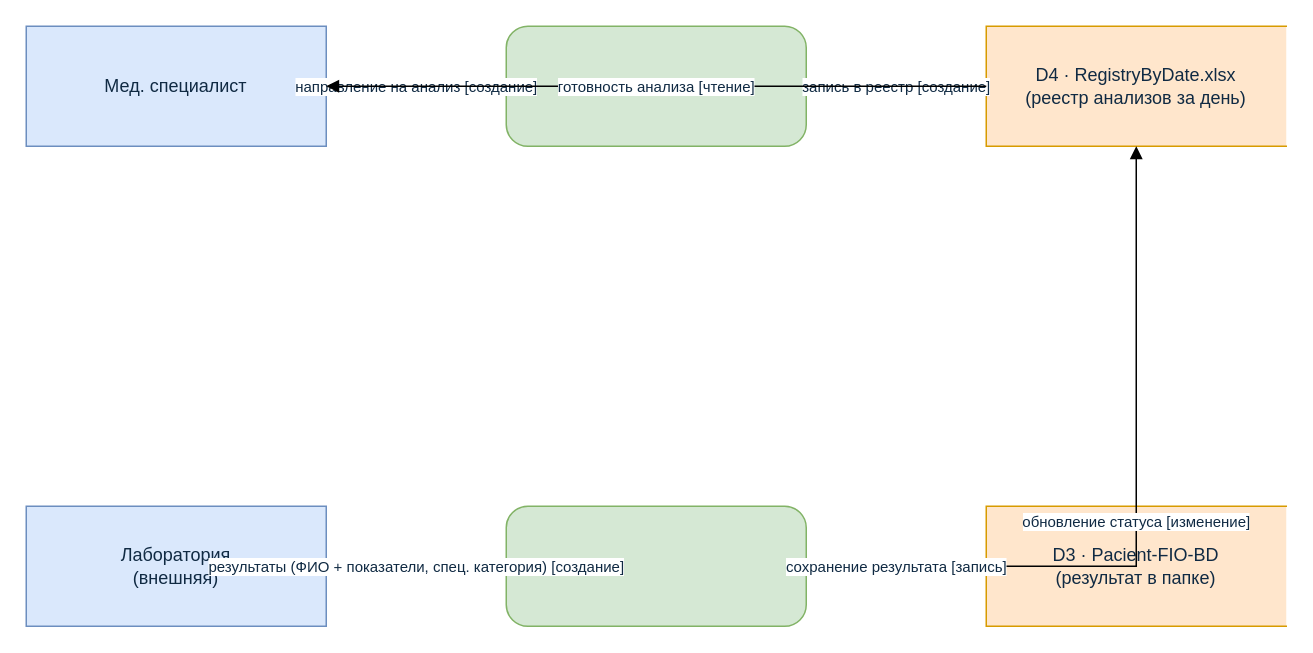
The diagram is 1313 pixels wide and 653 high, and some of its shapes have lost their labels. Each missing label, with the centre of its shape:
3.1 Регистрация направления/анализа: pixel 655 85
3.2 Внесение результатов: pixel 655 565
